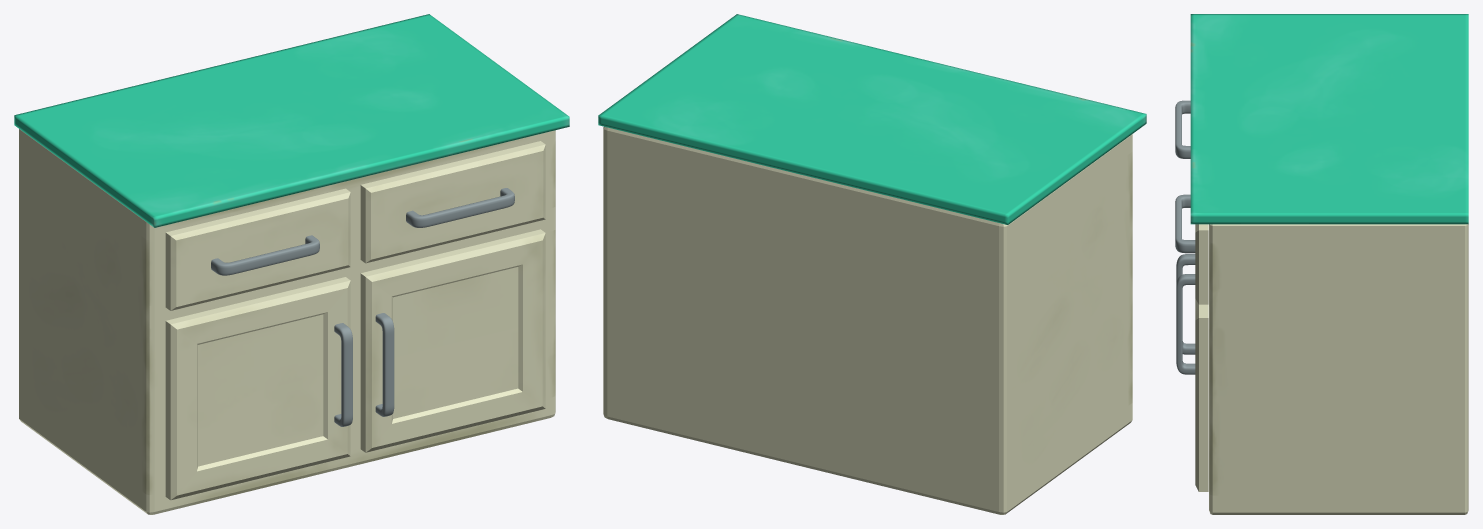
The model's file is DentistCabinet.fbx.
The picture shows the model from 3 angles, left to right: view 1: azimuth 30°, elevation 25°; view 2: azimuth 150°, elevation 25°; view 3: azimuth 270°, elevation 25°; orthographic projection.
Parts seen in each view (by area): view 1: Counter, Cabinet Base.001, Cabinet Door R.001, Cabinet Door L.001, Cabinet Drawer L.001, Cabinet Drawer R.001, Handle Drawer R, Handle Drawer L, Handle Cabinet L, Handle Cabinet R; view 2: Cabinet Base.001, Counter; view 3: Cabinet Base.001, Counter, Cabinet Door L.001, Cabinet Drawer L.001, Handle Cabinet L, Handle Drawer L, Handle Drawer R, Handle Cabinet R.
Part boxes in pixels (bbox=[...]): Counter: bbox=[14, 14, 569, 227]; Cabinet Base.001: bbox=[19, 129, 555, 514]; Cabinet Door R.001: bbox=[165, 277, 350, 500]; Cabinet Door L.001: bbox=[360, 229, 545, 452]; Cabinet Drawer L.001: bbox=[360, 141, 545, 263]; Cabinet Drawer R.001: bbox=[165, 188, 350, 310]; Handle Drawer R: bbox=[211, 235, 319, 275]; Handle Drawer L: bbox=[406, 188, 514, 227]; Handle Cabinet L: bbox=[375, 313, 394, 416]; Handle Cabinet R: bbox=[334, 323, 352, 426]; Cabinet Base.001: bbox=[603, 126, 1132, 514]; Counter: bbox=[598, 14, 1146, 224]; Cabinet Base.001: bbox=[1209, 224, 1468, 514]; Counter: bbox=[1190, 14, 1468, 224]; Cabinet Door L.001: bbox=[1195, 299, 1208, 491]; Cabinet Drawer L.001: bbox=[1195, 224, 1208, 304]; Handle Cabinet L: bbox=[1176, 274, 1195, 374]; Handle Drawer L: bbox=[1175, 194, 1195, 253]; Handle Drawer R: bbox=[1175, 100, 1190, 158]; Handle Cabinet R: bbox=[1176, 254, 1195, 354].
Bounding box in the file's own units: 160 × 113 × 99.06.
